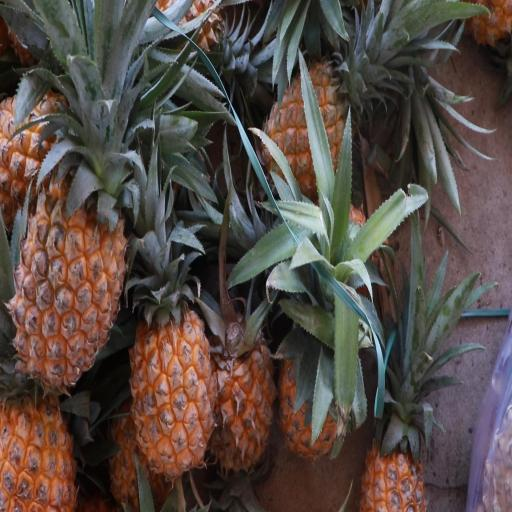Pineapple - v8 v1: (6, 148, 128, 392), (253, 49, 361, 222), (128, 296, 218, 479), (212, 296, 278, 480), (0, 366, 83, 512), (280, 301, 346, 465)
